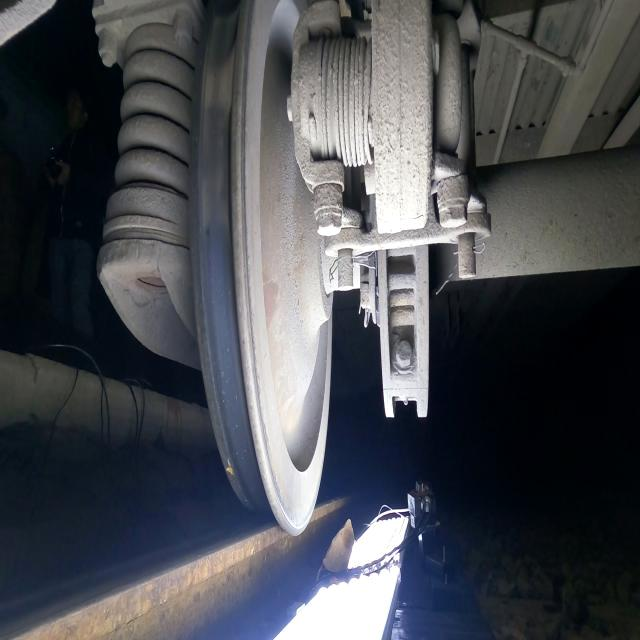Cracks-Scratches: (225, 456, 236, 478)
Shelling: (198, 8, 240, 238)
Wheel: (189, 0, 332, 536)
